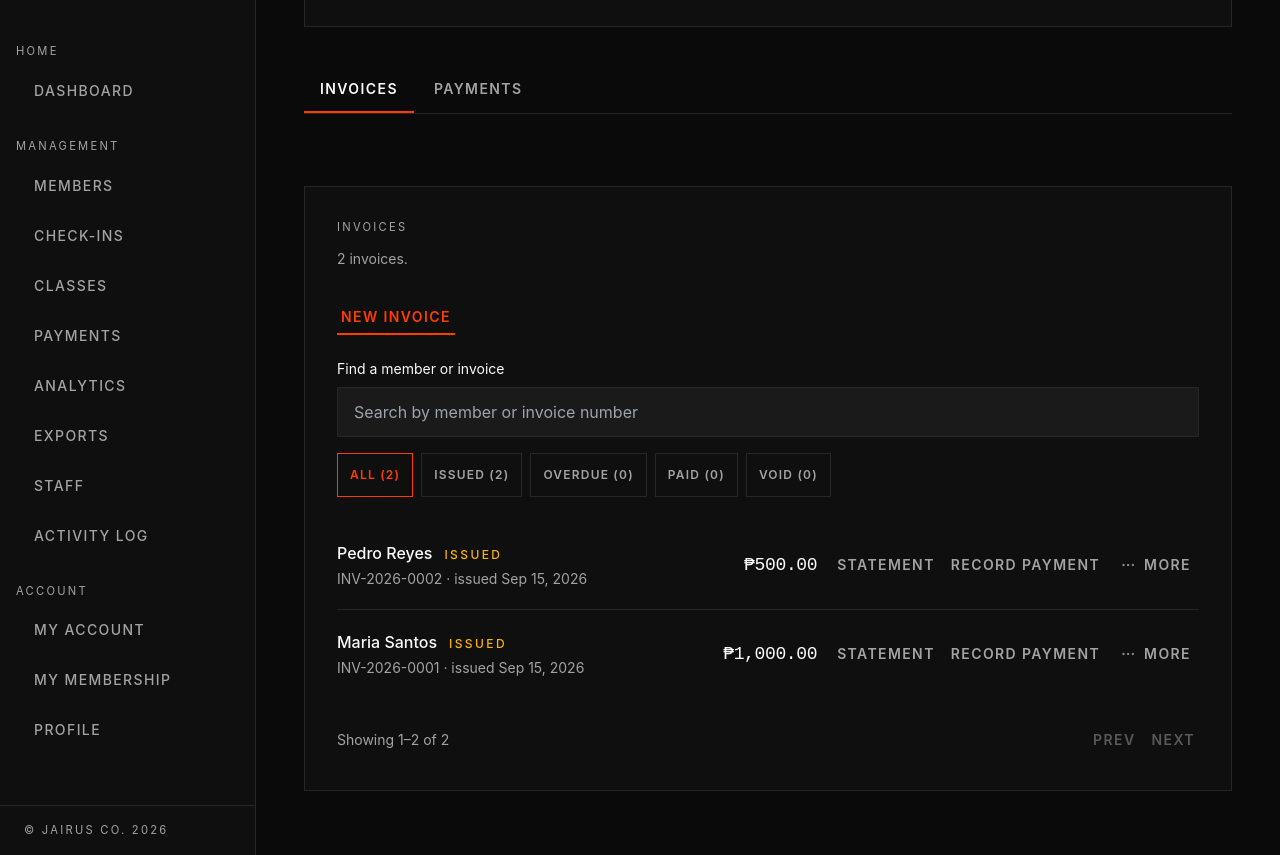
Test: PaymentsPage › searches invoices by member name and invoice number
(page scrolled)
Expected: the text "Showing 1–2 of 2" is shown, top-left (337, 730), bottom-right (449, 750)
Step 1. Type "Pedro" into the search field named "Search invoices" → (768, 412), box top-left (337, 387), bottom-right (1199, 437)
(page scrolled)
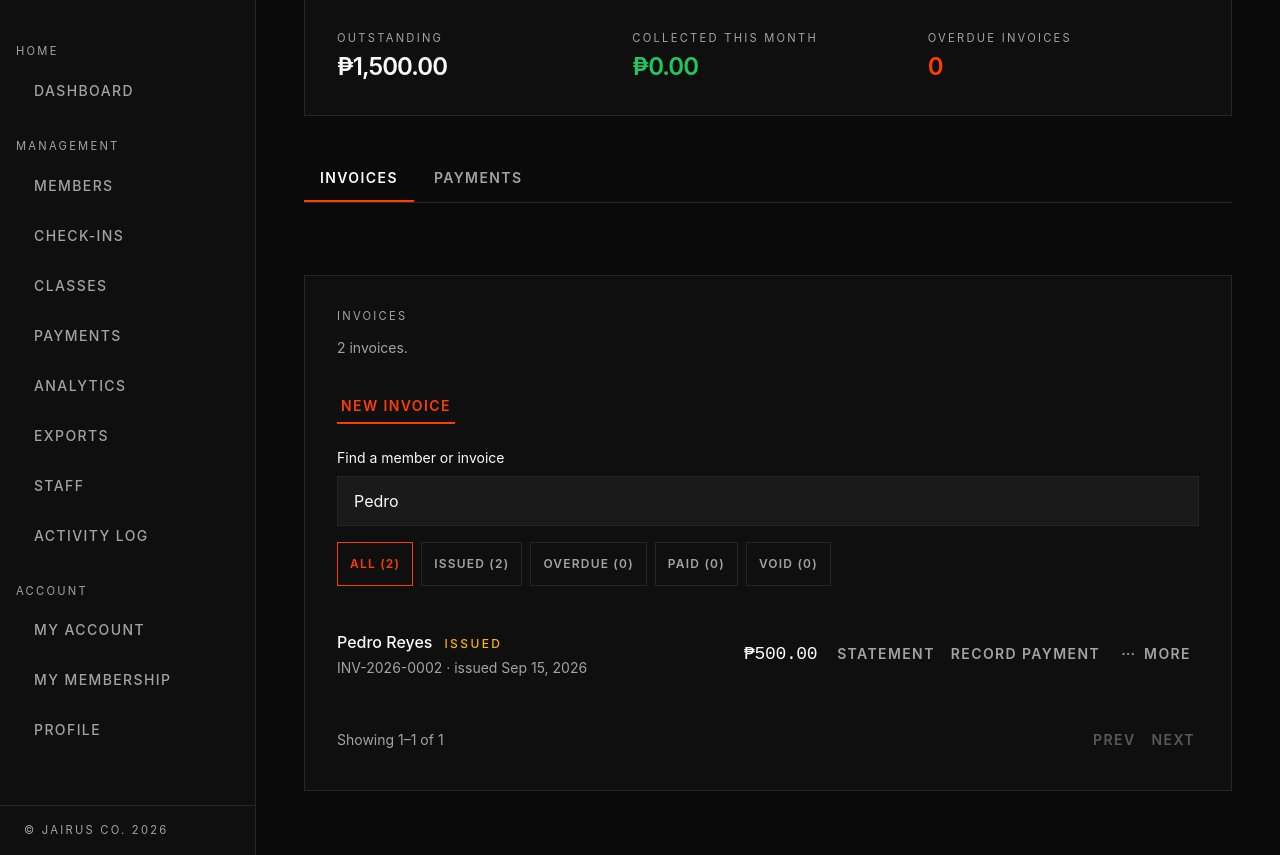
Expected: the text "Pedro Reyes" is shown, top-left (337, 632), bottom-right (432, 652)
Expected: the text "Showing 1–1 of 1" is shown, top-left (337, 730), bottom-right (444, 750)
Expected: the text "Maria Santos" is gone
Step 2. Replace the text in the search field named "Search invoices" with "INV-2026-0001" → (768, 501), box top-left (337, 476), bottom-right (1199, 526)
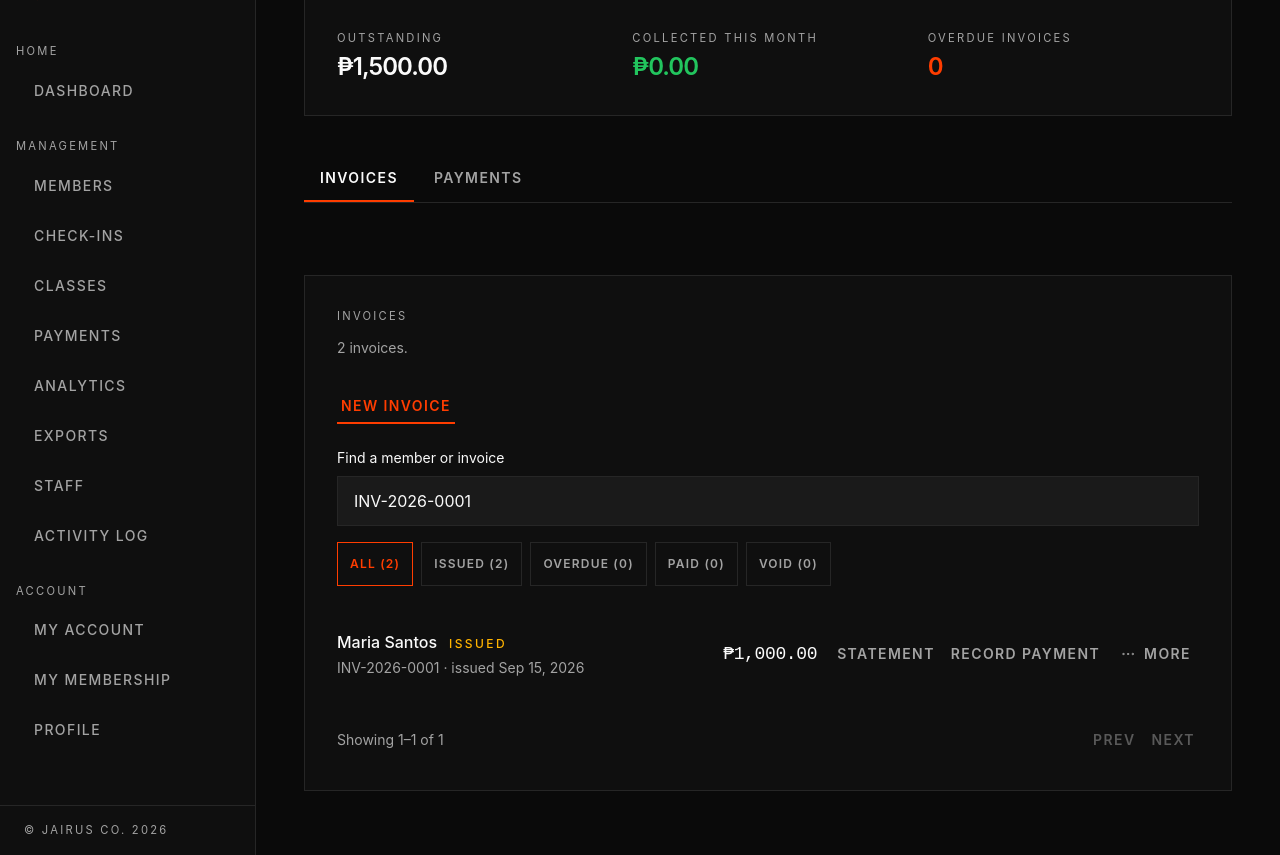
Expected: the text "Showing 1–1 of 1" is shown, top-left (337, 730), bottom-right (444, 750)
Expected: the text "Maria Santos" is shown, top-left (337, 632), bottom-right (437, 652)
Step 3. Replace the text in the search field named "Search invoices" with "nobody" → (768, 501), box top-left (337, 476), bottom-right (1199, 526)
(page scrolled)
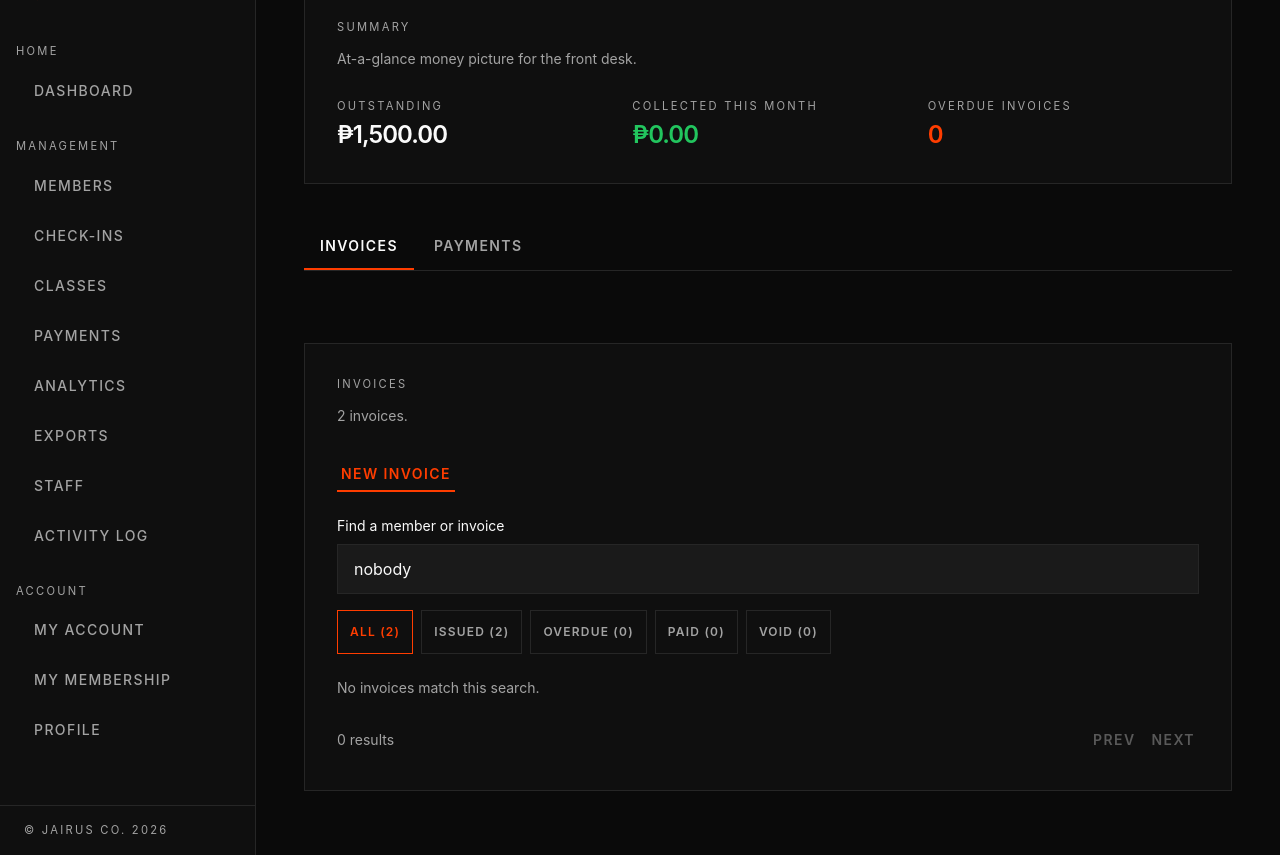
Expected: the text "Pedro Reyes" is not shown
Expected: the text "No invoices match this search." is shown, top-left (337, 679), bottom-right (540, 696)
